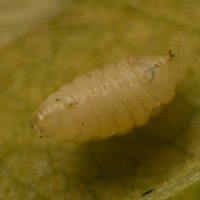insect: (33, 51, 175, 140)
